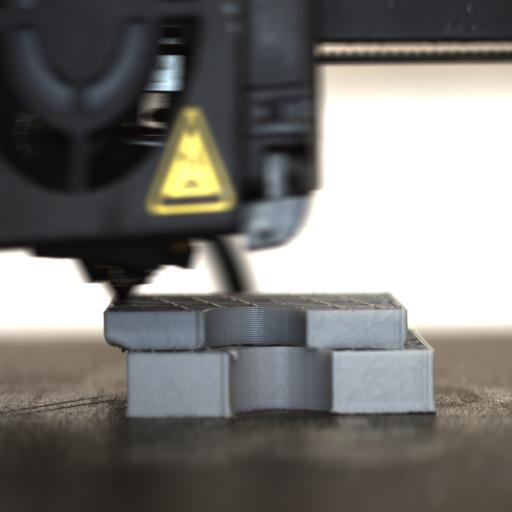layer_shift: (106, 334, 434, 361)
